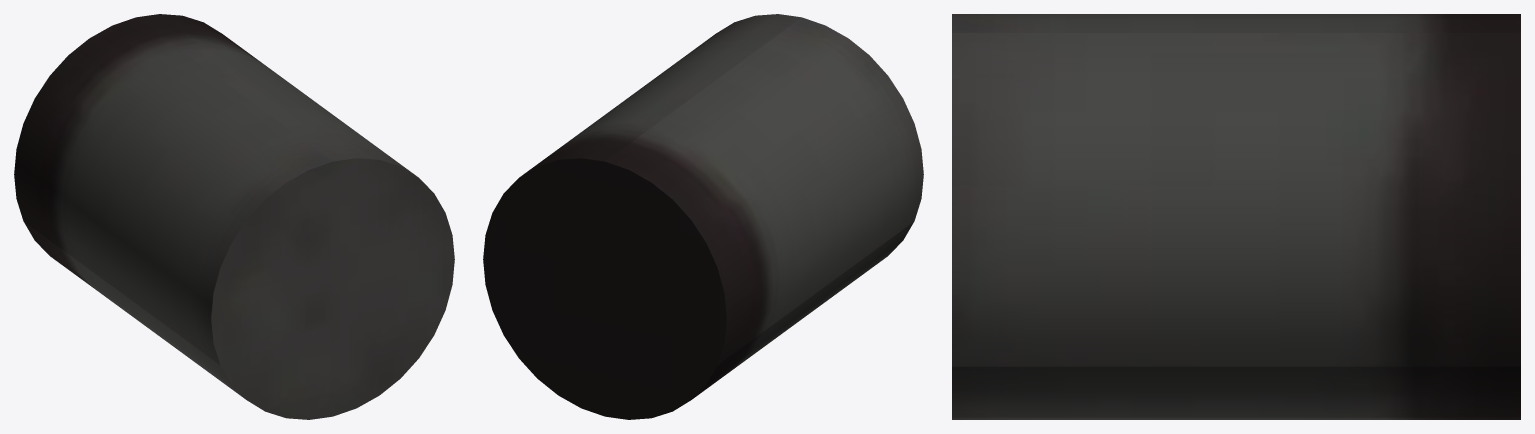
Rendered from body__stem_np.glb.
3 renders of one model, left to right at view 1: azimuth 30°, elevation 25°; view 2: azimuth 150°, elevation 25°; view 3: azimuth 270°, elevation 25°, orthographic. The views are drawn at different scales.
Visible parts, largest first — view 1: geometry_0; view 2: geometry_0; view 3: geometry_0.
Boxes of the visible parts, x1=… form: geometry_0: x1=14, y1=14, x2=454, y2=419; geometry_0: x1=483, y1=14, x2=923, y2=419; geometry_0: x1=952, y1=14, x2=1520, y2=419.
Bounding box in the file's own units: 0.01 × 0.01 × 0.014.
1 material, 1 textured.
